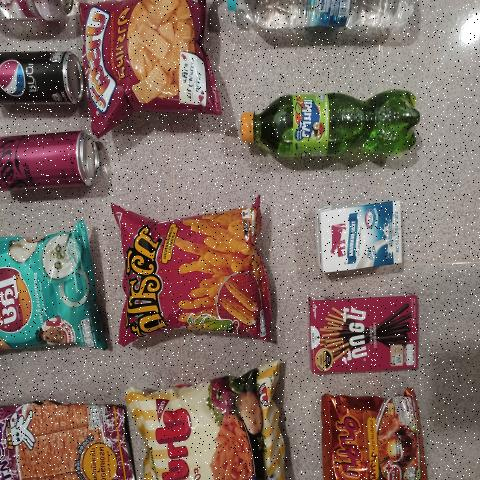bento_red: (0, 397, 123, 480)
coke_red: (0, 133, 93, 189)
fanta_green: (231, 83, 423, 159)
lay_blue: (0, 228, 84, 352)
mama: (324, 400, 426, 475)
paprika: (129, 379, 285, 480)
party_red: (91, 3, 208, 119)
pepsi_black: (0, 48, 77, 108)
pokki: (309, 290, 417, 375)
thai_denmark: (316, 196, 408, 276)
twisco: (125, 223, 260, 329)
